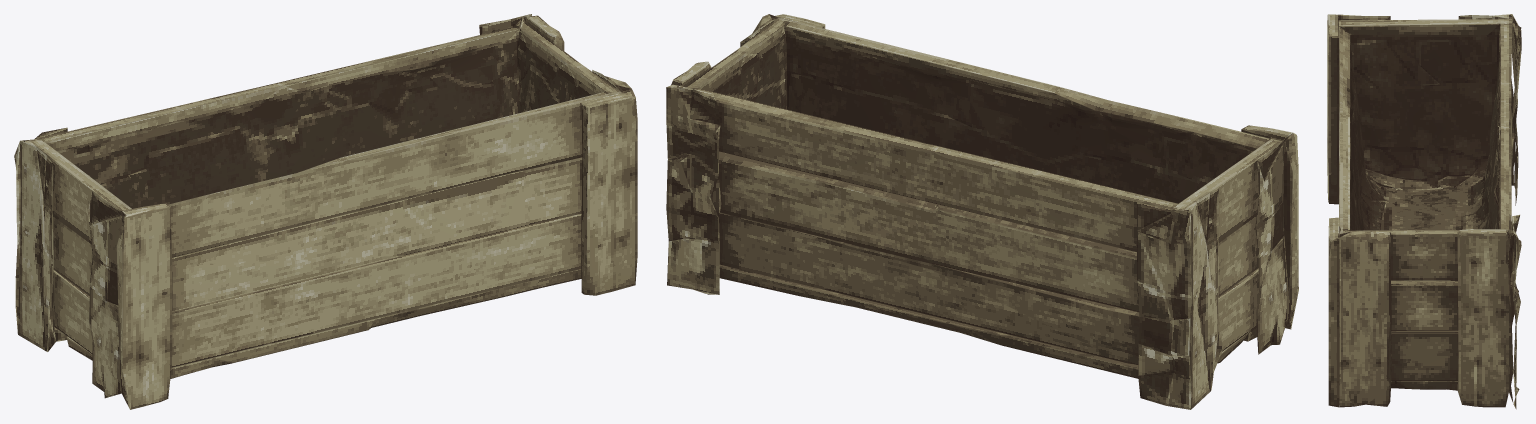
File: planter_box_02.glb
3 views of the same model, side by side, from view 1: azimuth 30°, elevation 25°; view 2: azimuth 150°, elevation 25°; view 3: azimuth 270°, elevation 25° (orthographic). The views are drawn at different scales.
Parts seen in each view (by area): view 1: mesh; view 2: mesh; view 3: mesh.
Part boxes in pixels (box(x1,y1,x2,y2)): mesh: box(14, 14, 637, 409); mesh: box(666, 14, 1298, 409); mesh: box(1327, 14, 1521, 409).
Size of the model in its own units: 65.2 by 24 by 23.99.
1 material, 1 textured.
